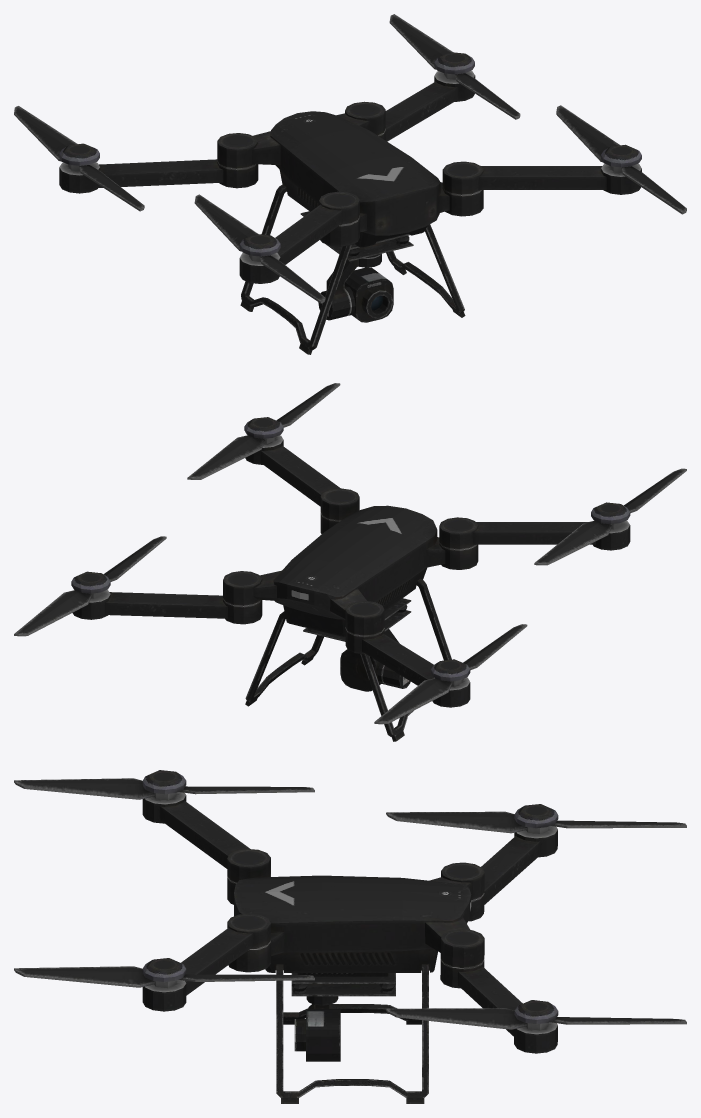
The model's file is UAV.fbx.
The picture shows the model from 3 angles, top to bottom: view 1: azimuth 30°, elevation 25°; view 2: azimuth 150°, elevation 25°; view 3: azimuth 270°, elevation 25°; orthographic projection. The views are drawn at different scales.
Parts seen in each view (by area): view 1: vehicle#fuse_0, vehicle#wing_r_2, vehicle#wing_l_4, vehicle#prop01_1_3, vehicle#prop01_3_5, vehicle#prop01_2_9, vehicle#prop01_4_10, vehicle#gear_r_8, vehicle#optic1_gun_6, vehicle#gear_l_7, vehicle#optic1_turret_1; view 2: vehicle#fuse_0, vehicle#wing_l_4, vehicle#wing_r_2, vehicle#prop01_2_9, vehicle#prop01_4_10, vehicle#prop01_3_5, vehicle#prop01_1_3, vehicle#gear_r_8, vehicle#gear_l_7, vehicle#optic1_gun_6, vehicle#optic1_turret_1; view 3: vehicle#fuse_0, vehicle#wing_l_4, vehicle#wing_r_2, vehicle#prop01_4_10, vehicle#prop01_3_5, vehicle#prop01_1_3, vehicle#prop01_2_9, vehicle#gear_l_7, vehicle#optic1_gun_6, vehicle#gear_r_8.
Part boxes in pixels (<box>): vehicle#fuse_0: <box>217,101,483,267</box>; vehicle#wing_r_2: <box>59,159,342,283</box>; vehicle#wing_l_4: <box>385,71,641,194</box>; vehicle#prop01_1_3: <box>194,194,325,303</box>; vehicle#prop01_3_5: <box>556,105,686,214</box>; vehicle#prop01_2_9: <box>14,106,144,211</box>; vehicle#prop01_4_10: <box>389,14,520,119</box>; vehicle#gear_r_8: <box>240,184,351,354</box>; vehicle#optic1_gun_6: <box>344,267,393,322</box>; vehicle#gear_l_7: <box>386,224,465,317</box>; vehicle#optic1_turret_1: <box>318,259,358,320</box>; vehicle#fuse_0: <box>223,488,478,654</box>; vehicle#wing_l_4: <box>72,435,340,619</box>; vehicle#wing_r_2: <box>362,520,630,707</box>; vehicle#prop01_2_9: <box>374,624,527,724</box>; vehicle#prop01_4_10: <box>14,536,166,636</box>; vehicle#prop01_3_5: <box>187,383,340,479</box>; vehicle#prop01_1_3: <box>534,468,686,565</box>; vehicle#gear_r_8: <box>360,578,451,741</box>; vehicle#gear_l_7: <box>245,611,323,706</box>; vehicle#optic1_gun_6: <box>340,649,381,691</box>; vehicle#optic1_turret_1: <box>377,629,410,688</box>; vehicle#fuse_0: <box>227,849,484,1005</box>; vehicle#wing_l_4: <box>142,928,557,1053</box>; vehicle#wing_r_2: <box>142,792,557,904</box>; vehicle#prop01_4_10: <box>386,1000,686,1030</box>; vehicle#prop01_3_5: <box>14,958,314,988</box>; vehicle#prop01_1_3: <box>14,770,314,800</box>; vehicle#prop01_2_9: <box>386,804,686,833</box>; vehicle#gear_l_7: <box>276,964,428,1103</box>; vehicle#optic1_gun_6: <box>294,1009,340,1061</box>; vehicle#gear_r_8: <box>283,1004,421,1024</box>.
Size of the model in its own units: 52.89 by 22.31 by 70.14.
Materials: 1 (1 with a texture image).
